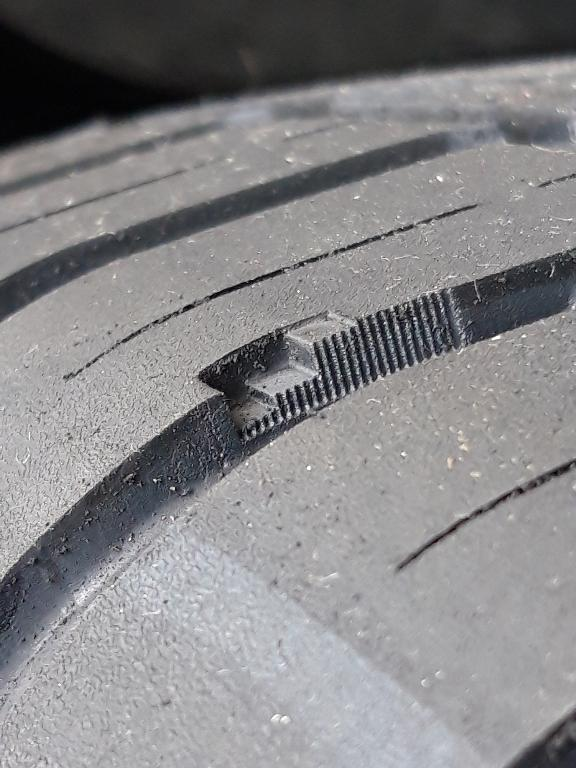temoin:50: (189, 304, 382, 451)
